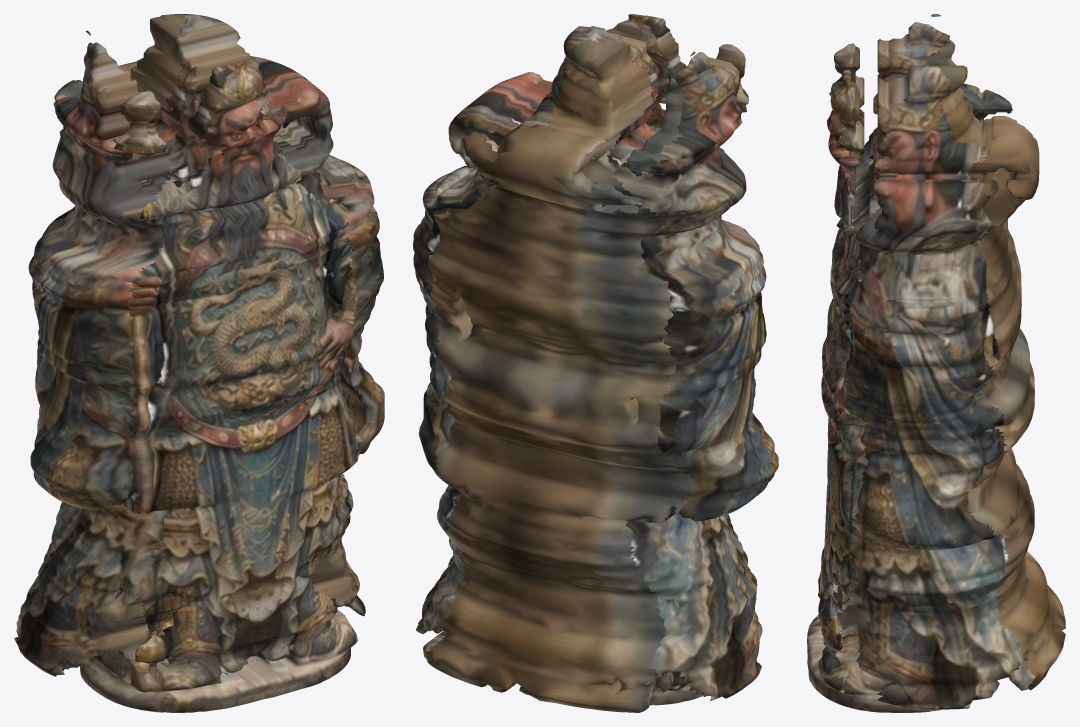
Rendered from dragon-general.glb.
3 renders of one model, left to right at view 1: azimuth 30°, elevation 25°; view 2: azimuth 150°, elevation 25°; view 3: azimuth 270°, elevation 25°, orthographic. The views are drawn at different scales.
Parts seen in each view (by area): view 1: dragon-general; view 2: dragon-general; view 3: dragon-general.
Boxes of the visible parts, x1,y1,x2,y2 form: dragon-general: (14, 14, 384, 712); dragon-general: (413, 14, 778, 712); dragon-general: (807, 14, 1065, 712).
Bounding box in the file's own units: 0.5472 × 1.01 × 0.3948.
Materials: 1 (1 with a texture image).
